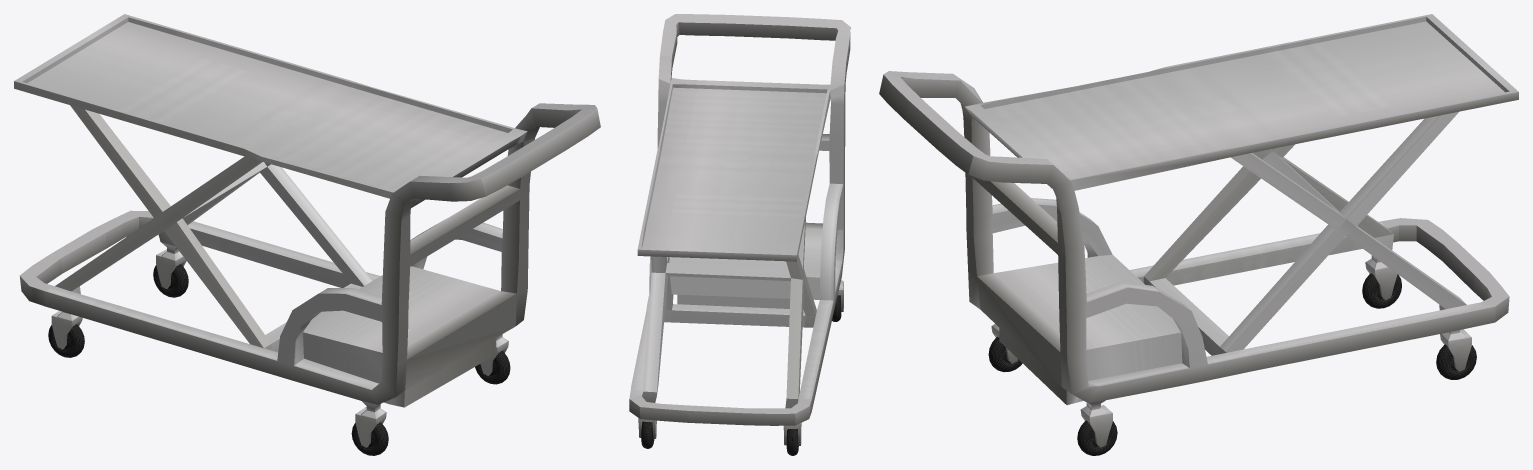
File: chariot_1.fbx
The picture shows the model from 3 angles, left to right: view 1: azimuth 30°, elevation 25°; view 2: azimuth 150°, elevation 25°; view 3: azimuth 270°, elevation 25°; orthographic projection. The views are drawn at different scales.
Parts seen in each view (by area): view 1: table_roulante:roue4; view 2: table_roulante:roue4; view 3: table_roulante:roue4.
Part boxes in pixels (left/top/right/bottom): table_roulante:roue4: left=14, top=14, right=600, bottom=455; table_roulante:roue4: left=629, top=14, right=850, bottom=455; table_roulante:roue4: left=879, top=14, right=1518, bottom=455.
Size of the model in its own units: 205 by 162 by 290.
